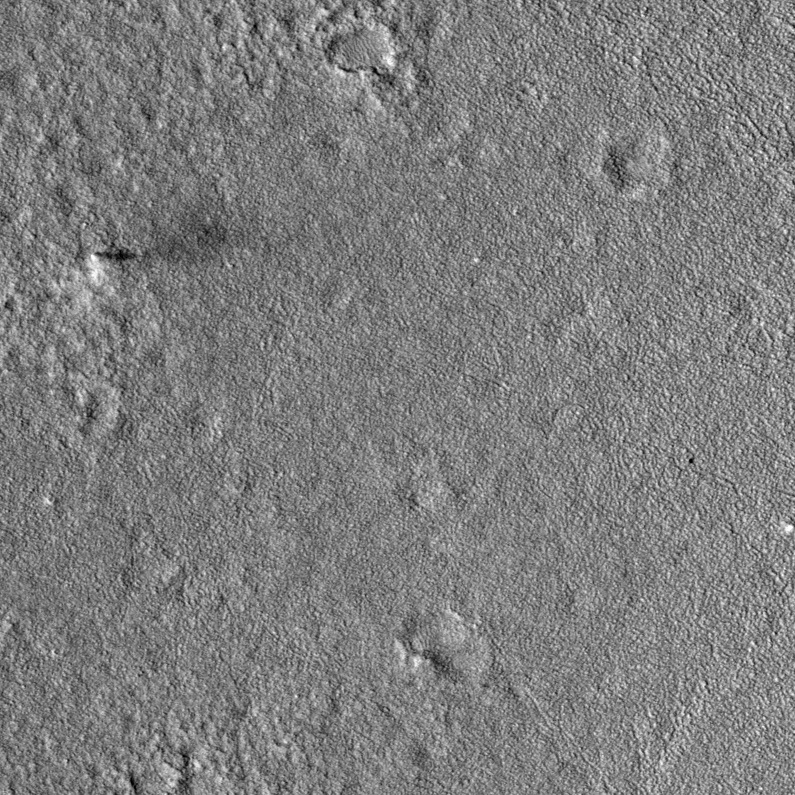dust_devil: (84, 223, 227, 286)
